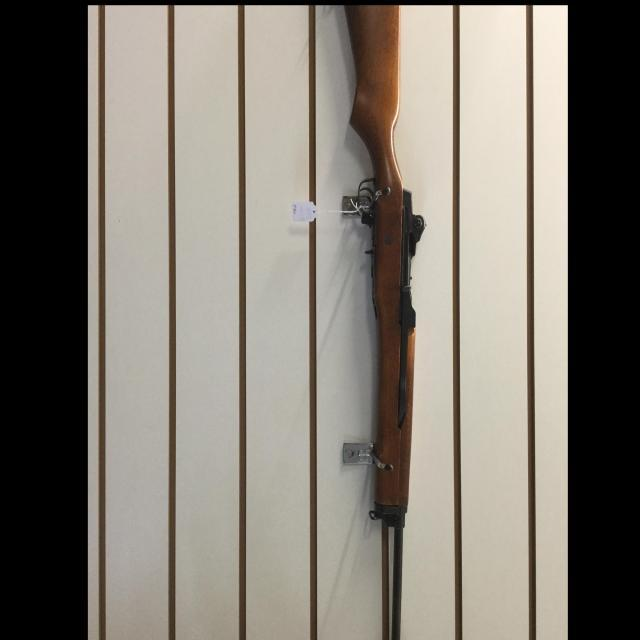weapon: (343, 2, 428, 640)
